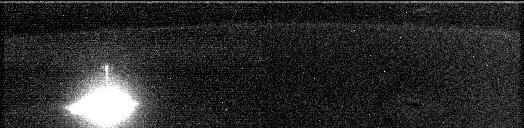positive: (97, 62, 114, 87)
